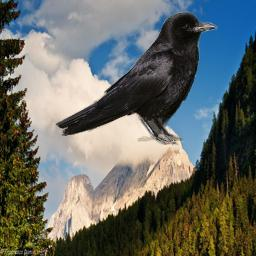Crow: (54, 11, 218, 145)
